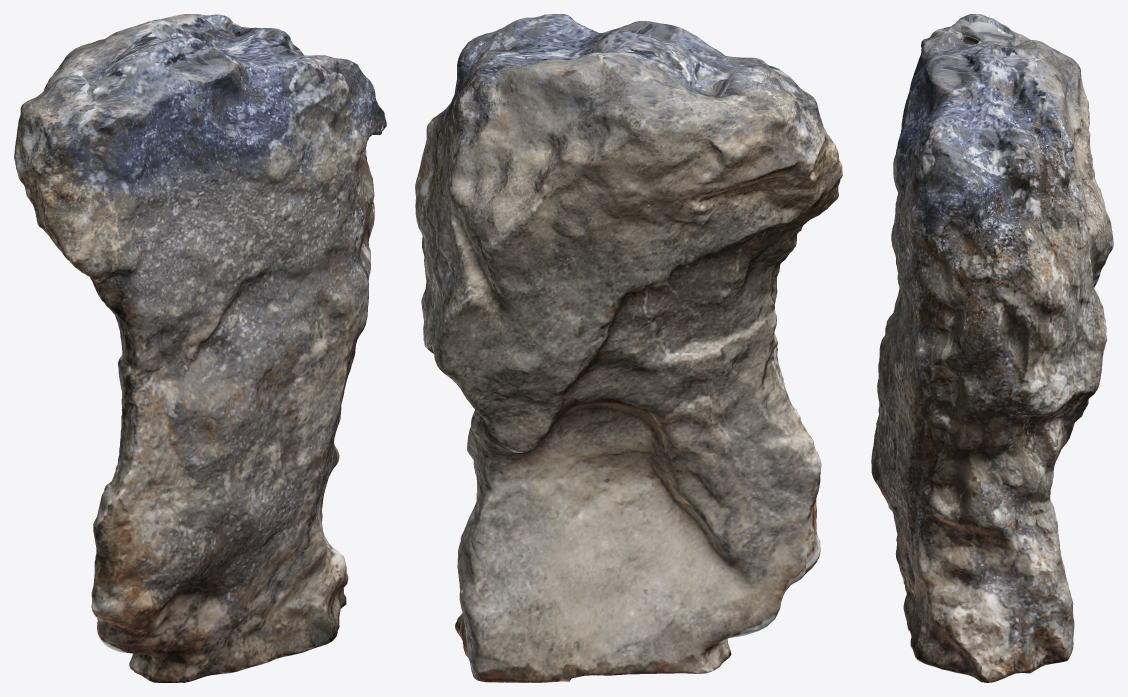
Rendered from sparse2.glb.
The picture shows the model from 3 angles, left to right: view 1: azimuth 30°, elevation 25°; view 2: azimuth 150°, elevation 25°; view 3: azimuth 270°, elevation 25°; orthographic projection. The views are drawn at different scales.
Parts seen in each view (by area): view 1: Node; view 2: Node; view 3: Node.
Part boxes in pixels (box(x1,y1,x2,y2)): Node: box(14, 14, 386, 682); Node: box(415, 14, 842, 682); Node: box(871, 14, 1113, 682).
Size of the model in its own units: 2.54 by 4.16 by 1.64.
1 material, 1 textured.
